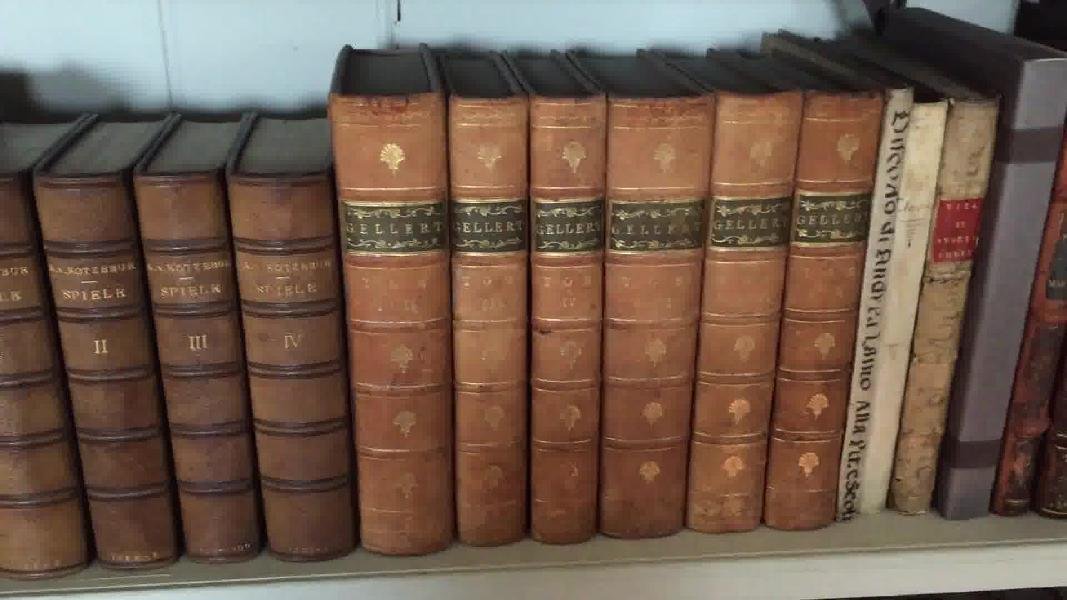Aa6-18_23: (324, 84, 890, 563)
Aa6-24: (835, 93, 892, 520)
Aa6-25: (854, 81, 940, 531)
Aa6-26: (890, 85, 983, 523)
Aa6-27: (944, 44, 1067, 510)
